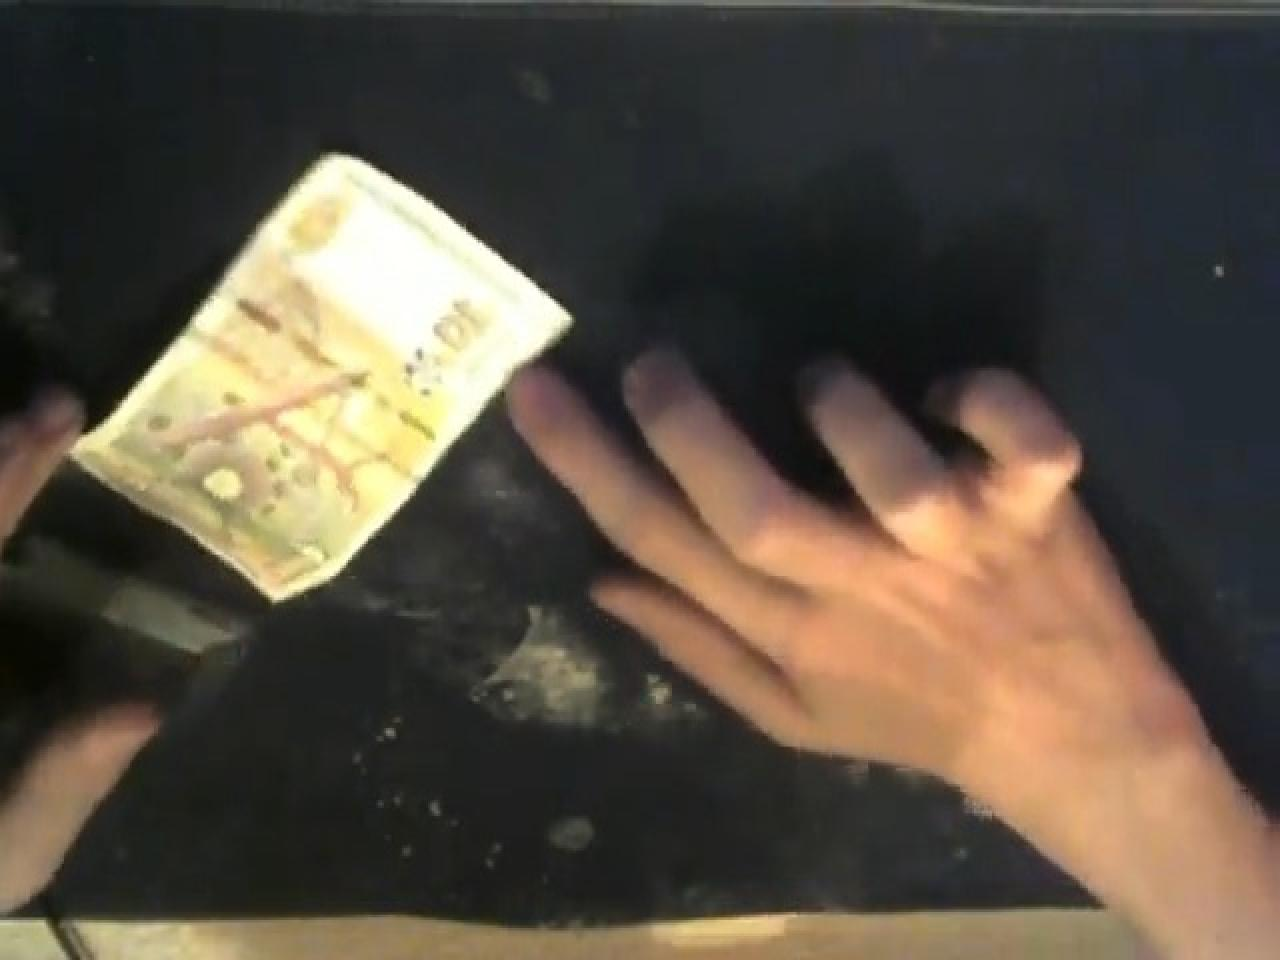10leva: (68, 146, 570, 611)
